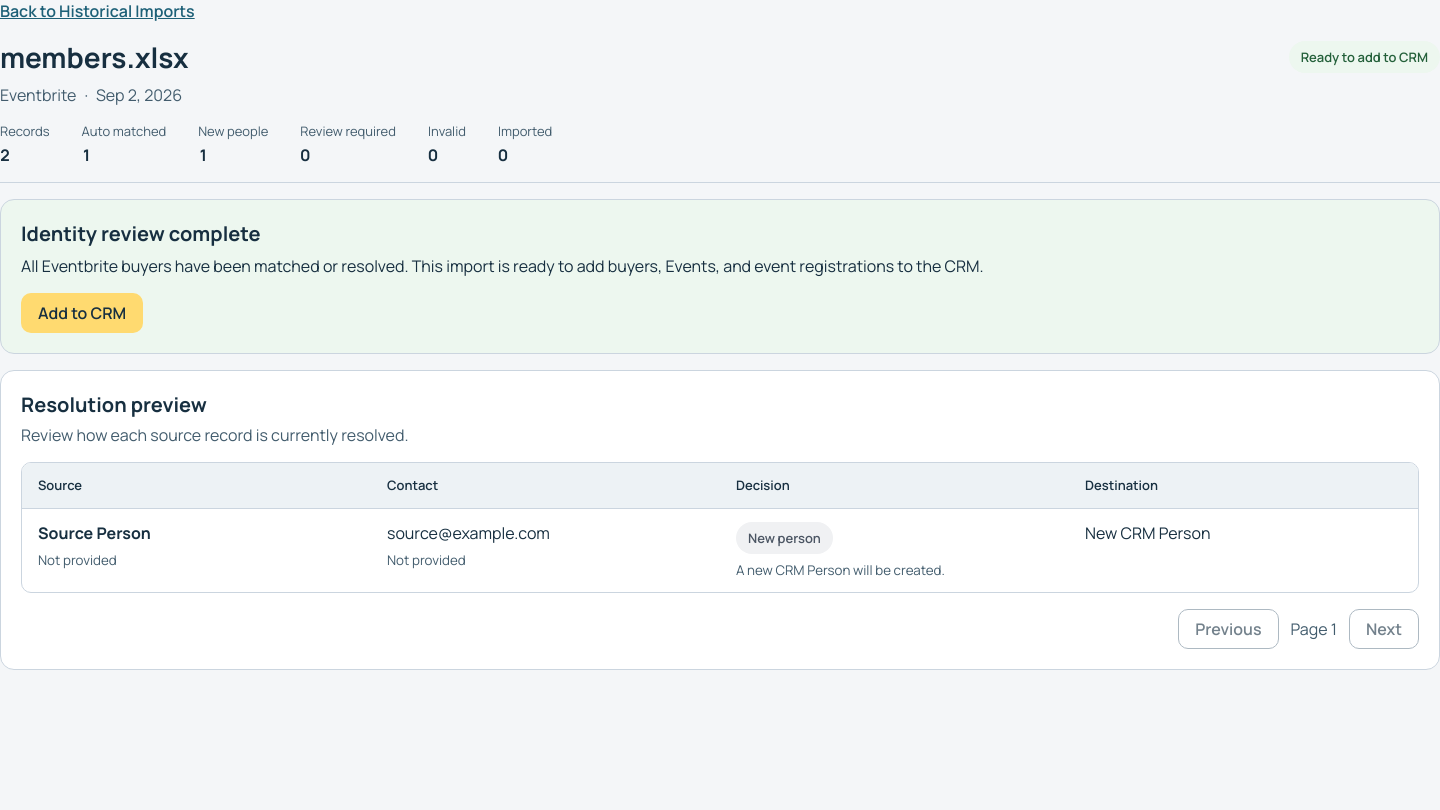
Test: ImportBatchPageComponent › imports a ready Eventbrite batch through the shared confirmation and keeps its banner focused on People outcomes
This screenshot has width=1440, height=810.
Step 1. Click the button "Add to CRM" → (82,313), box [21, 293, 143, 333]
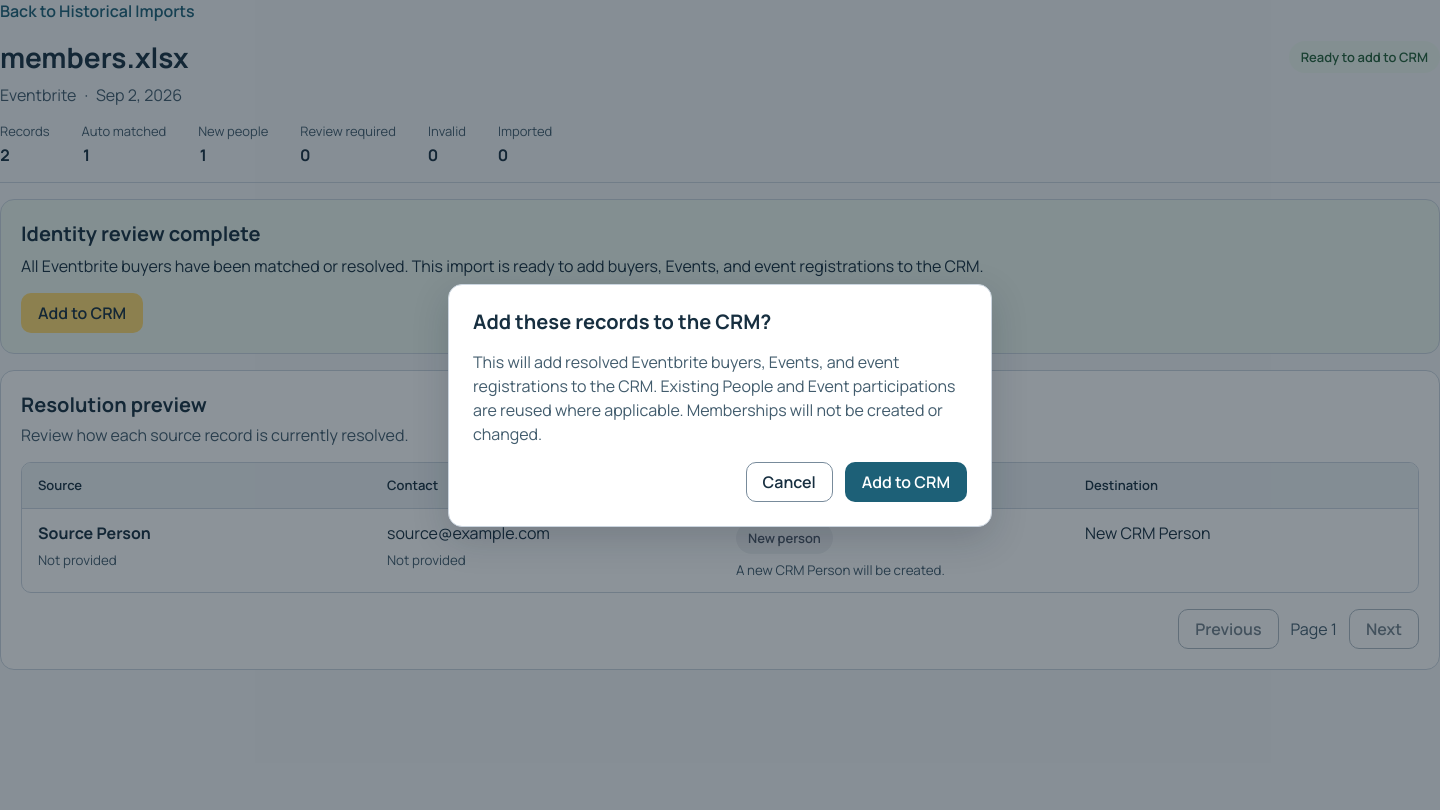
Expected: the text "buyers, Events, and event registrations" is shown, [21, 255, 984, 277]
Result: the text "Memberships will not be created or changed." is shown at [473, 350, 955, 444]
Step 2. Click the button "Add to CRM" → (906,482), box [845, 462, 967, 502]
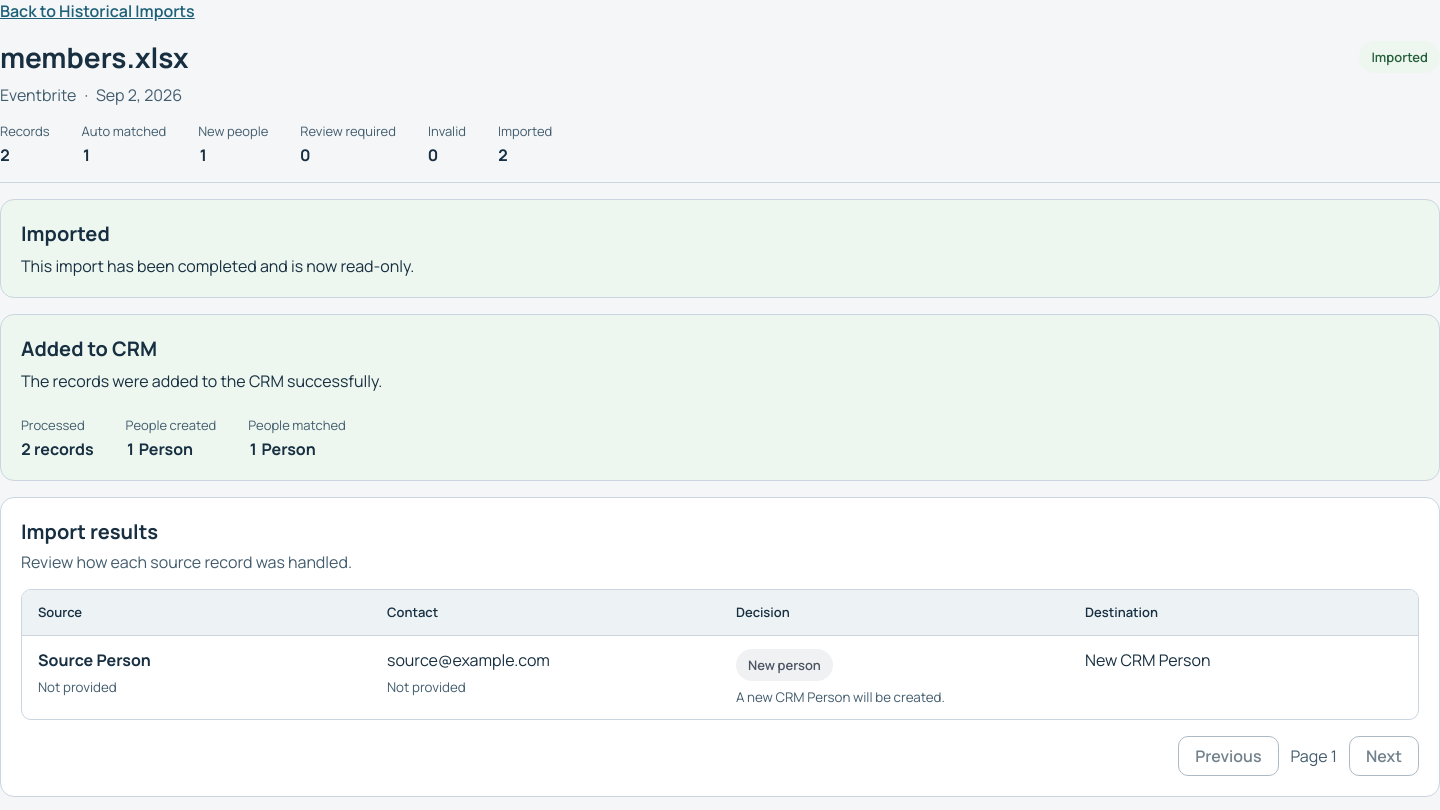
Result: the element with class "import-success" shows "Processed" at [21, 416, 85, 434]
Result: the element with class "import-success" shows "People created" at [126, 416, 216, 434]
Result: the element with class "import-success" shows "People matched" at [248, 416, 346, 434]
